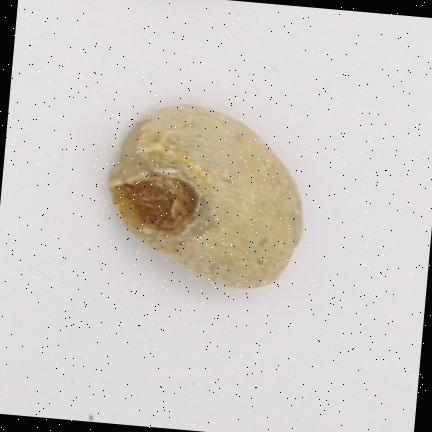broken: (109, 105, 302, 288)
